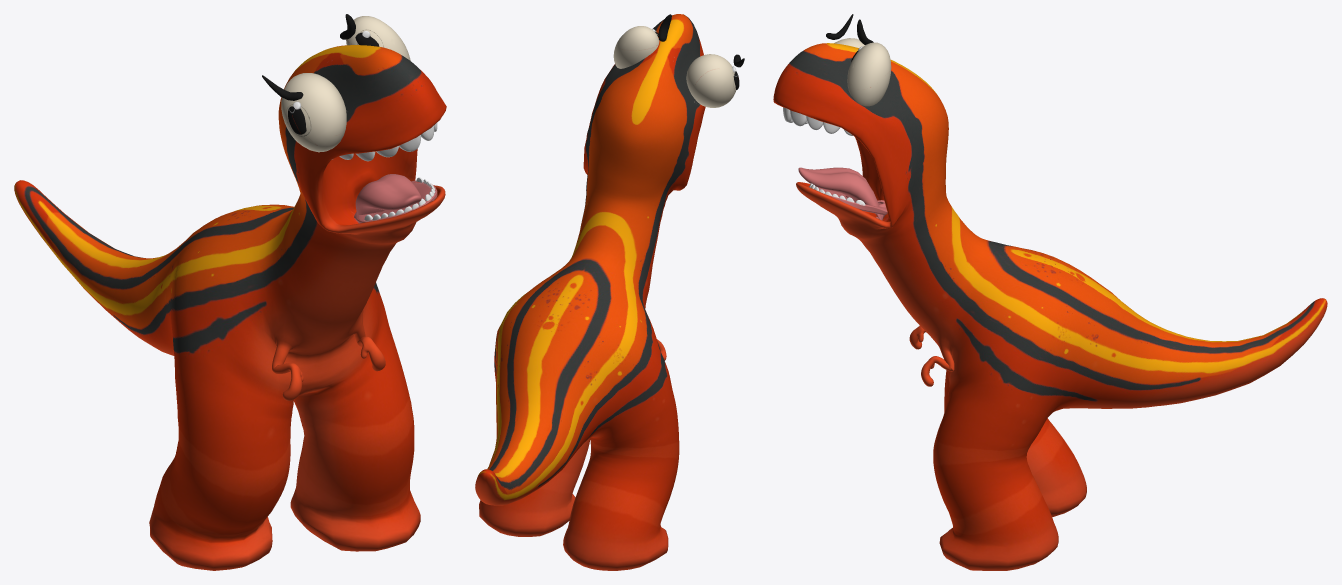
Rendered from rex.glb.
The picture shows the model from 3 angles, left to right: view 1: azimuth 30°, elevation 25°; view 2: azimuth 150°, elevation 25°; view 3: azimuth 270°, elevation 25°; orthographic projection. The views are drawn at different scales.
Parts seen in each view (by area): view 1: Rex_Unity_pose_v01:T_Rex_Rig_030:body_geo_High, Rex_Unity_pose_v01:T_Rex_Rig_030:r_eye_low1, Rex_Unity_pose_v01:T_Rex_Rig_030:lowerTongue_geo_low, Rex_Unity_pose_v01:T_Rex_Rig_030:l_eye_low1, Rex_Unity_pose_v01:T_Rex_Rig_030:upperTeeth_low; view 2: Rex_Unity_pose_v01:T_Rex_Rig_030:body_geo_High, Rex_Unity_pose_v01:T_Rex_Rig_030:r_eye_low1, Rex_Unity_pose_v01:T_Rex_Rig_030:l_eye_low1; view 3: Rex_Unity_pose_v01:T_Rex_Rig_030:body_geo_High, Rex_Unity_pose_v01:T_Rex_Rig_030:l_eye_low1, Rex_Unity_pose_v01:T_Rex_Rig_030:lowerTongue_geo_low.
Boxes of the visible parts, x1,y1,x2,y2 form: Rex_Unity_pose_v01:T_Rex_Rig_030:body_geo_High: (14,45,446,570); Rex_Unity_pose_v01:T_Rex_Rig_030:r_eye_low1: (281,73,346,152); Rex_Unity_pose_v01:T_Rex_Rig_030:lowerTongue_geo_low: (354,174,437,223); Rex_Unity_pose_v01:T_Rex_Rig_030:l_eye_low1: (346,16,410,60); Rex_Unity_pose_v01:T_Rex_Rig_030:upperTeeth_low: (332,123,437,161); Rex_Unity_pose_v01:T_Rex_Rig_030:body_geo_High: (475,14,705,570); Rex_Unity_pose_v01:T_Rex_Rig_030:r_eye_low1: (686,54,736,107); Rex_Unity_pose_v01:T_Rex_Rig_030:l_eye_low1: (613,26,659,68); Rex_Unity_pose_v01:T_Rex_Rig_030:body_geo_High: (773,43,1327,570); Rex_Unity_pose_v01:T_Rex_Rig_030:l_eye_low1: (847,42,891,106); Rex_Unity_pose_v01:T_Rex_Rig_030:lowerTongue_geo_low: (798,167,887,220).
Size of the model in its own units: 0.7567 by 1.84 by 1.85.
2 materials, 2 textured.
